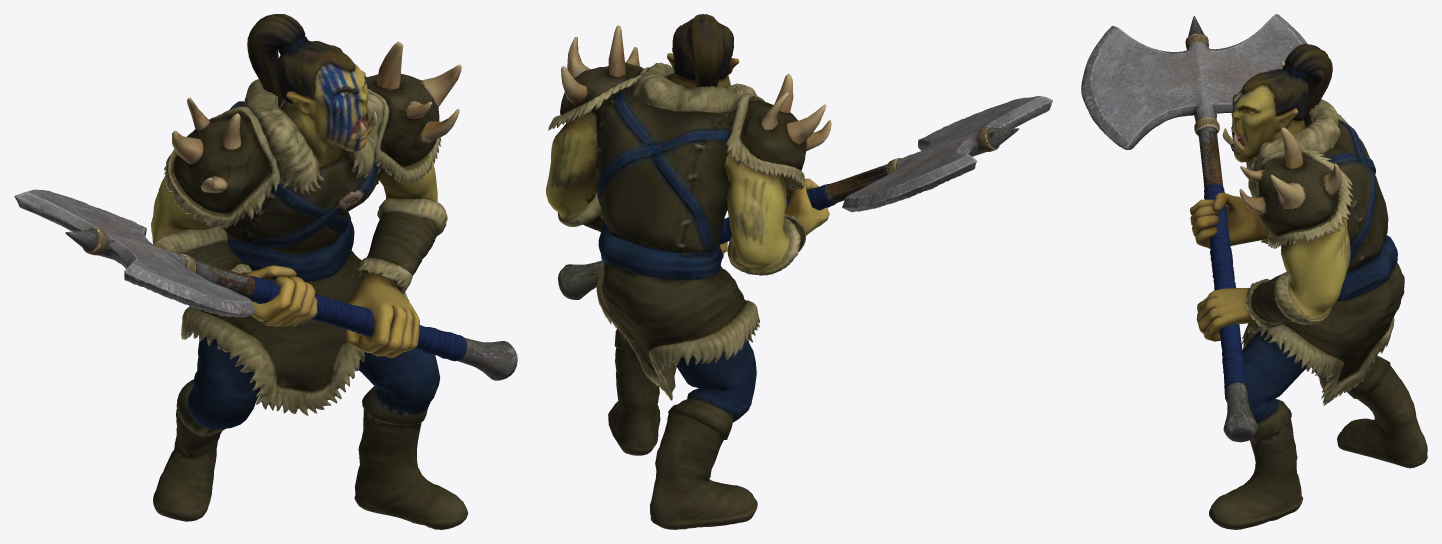
File: MZ4250 - Orc Male Warrior_blue_greataxe.glb
The picture shows the model from 3 angles, left to right: view 1: azimuth 30°, elevation 25°; view 2: azimuth 150°, elevation 25°; view 3: azimuth 270°, elevation 25°; orthographic projection. The views are drawn at different scales.
Visible parts, largest first — view 1: Great Axe.004; view 2: Great Axe.004; view 3: Great Axe.004.
Part boxes in pixels (<box>): Great Axe.004: <box>14,14,517,529</box>; Great Axe.004: <box>546,14,1052,529</box>; Great Axe.004: <box>1081,14,1427,529</box>.
Size of the model in its own units: 38.77 by 39.18 by 28.75.
Materials: 2 (2 with a texture image).
